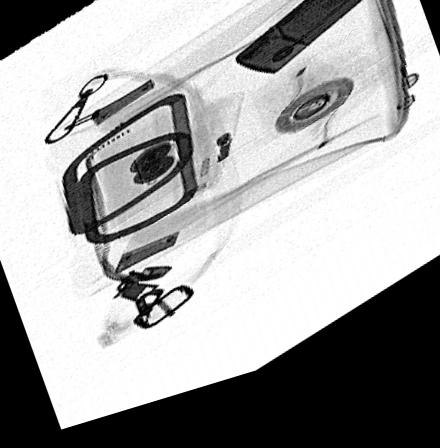Lighter: (235, 0, 373, 91)
